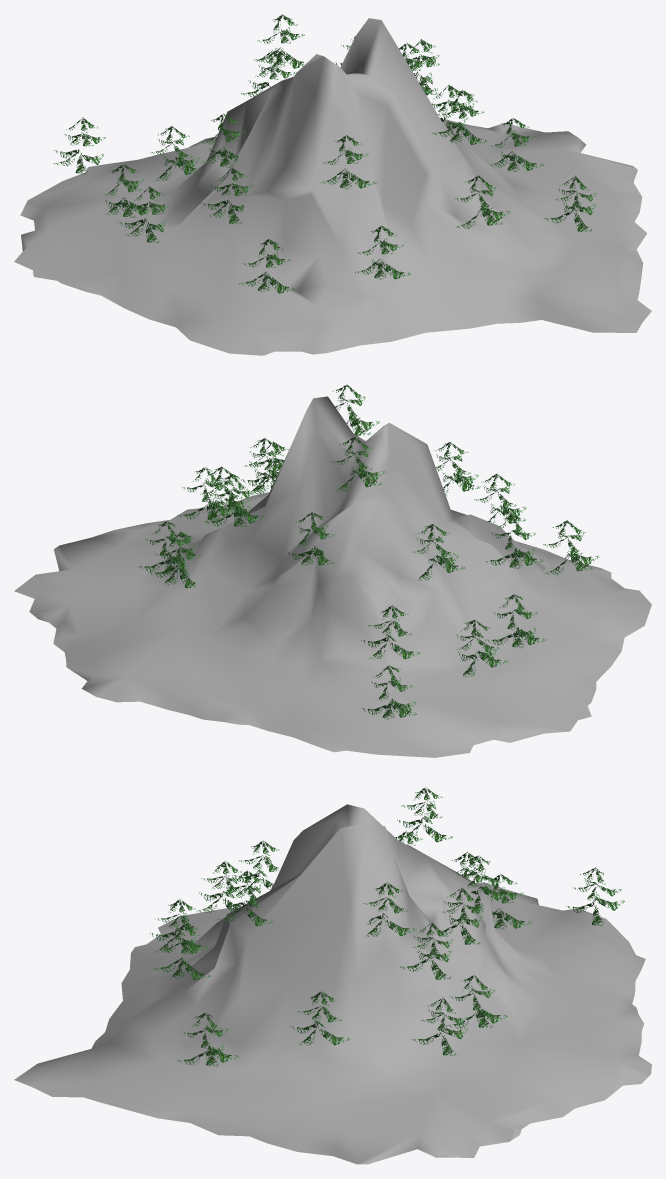
The model's file is snow_island_10.fbx.
3 views of the same model, one above another, from view 1: azimuth 30°, elevation 25°; view 2: azimuth 150°, elevation 25°; view 3: azimuth 270°, elevation 25° (orthographic). The views are drawn at different scales.
Visible parts, largest first — view 1: snow_island_10; view 2: snow_island_10; view 3: snow_island_10.
Boxes of the visible parts, box(x1,y1,x2,y2) form: snow_island_10: box(14, 14, 651, 355); snow_island_10: box(14, 384, 651, 757); snow_island_10: box(14, 787, 651, 1164).
Size of the model in its own units: 0.5595 by 0.2042 by 0.5336.
2 materials, 1 textured.
